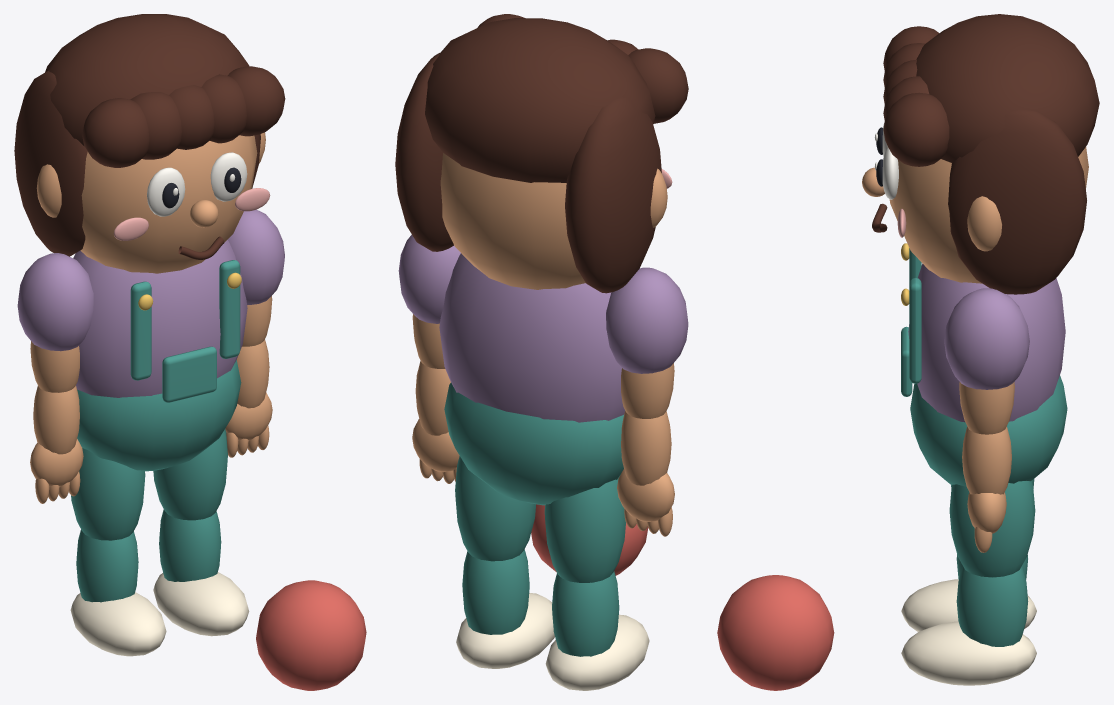
Rendered from mommy-kick.glb.
3 views of the same model, side by side, from view 1: azimuth 30°, elevation 25°; view 2: azimuth 150°, elevation 25°; view 3: azimuth 270°, elevation 25° (orthographic). The views are drawn at different scales.
Visible parts, largest first — view 1: soft shirt, hair cap, clay head, overalls, soft ball, bob hair, shirt sleeve, trouser leg, little shoe, little shoe.001, trouser leg.001, fringe (+22 smaller); view 2: hair cap, soft shirt, bob hair, overalls, clay head, shirt sleeve, trouser leg, bob hair.001, trouser leg.001, lower leg.001, lower leg, little shoe (+11 smaller); view 3: bob hair.001, hair cap, soft ball, soft shirt, shirt sleeve.001, overalls, clay head, little shoe.001, trouser leg.001, lower leg.001, fringe.004, forearm.001 (+10 smaller).
Boxes of the visible parts, x1,y1,x2,y2 form: soft shirt: (73, 240, 247, 397); hair cap: (45, 14, 249, 145); clay head: (80, 135, 257, 273); overalls: (77, 360, 241, 471); soft ball: (256, 580, 366, 690); bob hair: (14, 70, 87, 256); shirt sleeve: (17, 253, 93, 351); trouser leg: (71, 448, 145, 540); little shoe: (70, 592, 166, 656); little shoe.001: (153, 572, 249, 636); trouser leg.001: (153, 429, 227, 520); fringe: (82, 98, 149, 167); hair cap: (425, 18, 655, 182); soft shirt: (439, 253, 625, 422); bob hair: (565, 97, 661, 293); overalls: (444, 382, 623, 505); clay head: (440, 153, 585, 289); shirt sleeve: (606, 267, 688, 373); trouser leg: (544, 476, 625, 582); bob hair.001: (395, 52, 453, 251); trouser leg.001: (455, 456, 535, 561); lower leg.001: (462, 549, 529, 634); lower leg: (552, 571, 619, 656); little shoe: (545, 614, 649, 690); bob hair.001: (948, 109, 1086, 294); hair cap: (916, 14, 1099, 162); soft ball: (717, 575, 834, 690); soft shirt: (908, 263, 1065, 422); shirt sleeve.001: (944, 288, 1029, 389); overalls: (910, 375, 1067, 486); clay head: (888, 147, 1088, 283); little shoe.001: (901, 621, 1036, 685); trouser leg.001: (949, 481, 1035, 577); lower leg.001: (956, 566, 1028, 646); fringe.004: (883, 92, 949, 166); forearm.001: (962, 427, 1011, 494).
Bounding box in the file's own units: 0.957 × 2.14 × 1.18.
